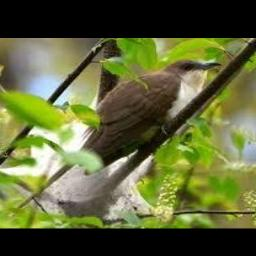Cuckoo: (17, 59, 222, 208)
